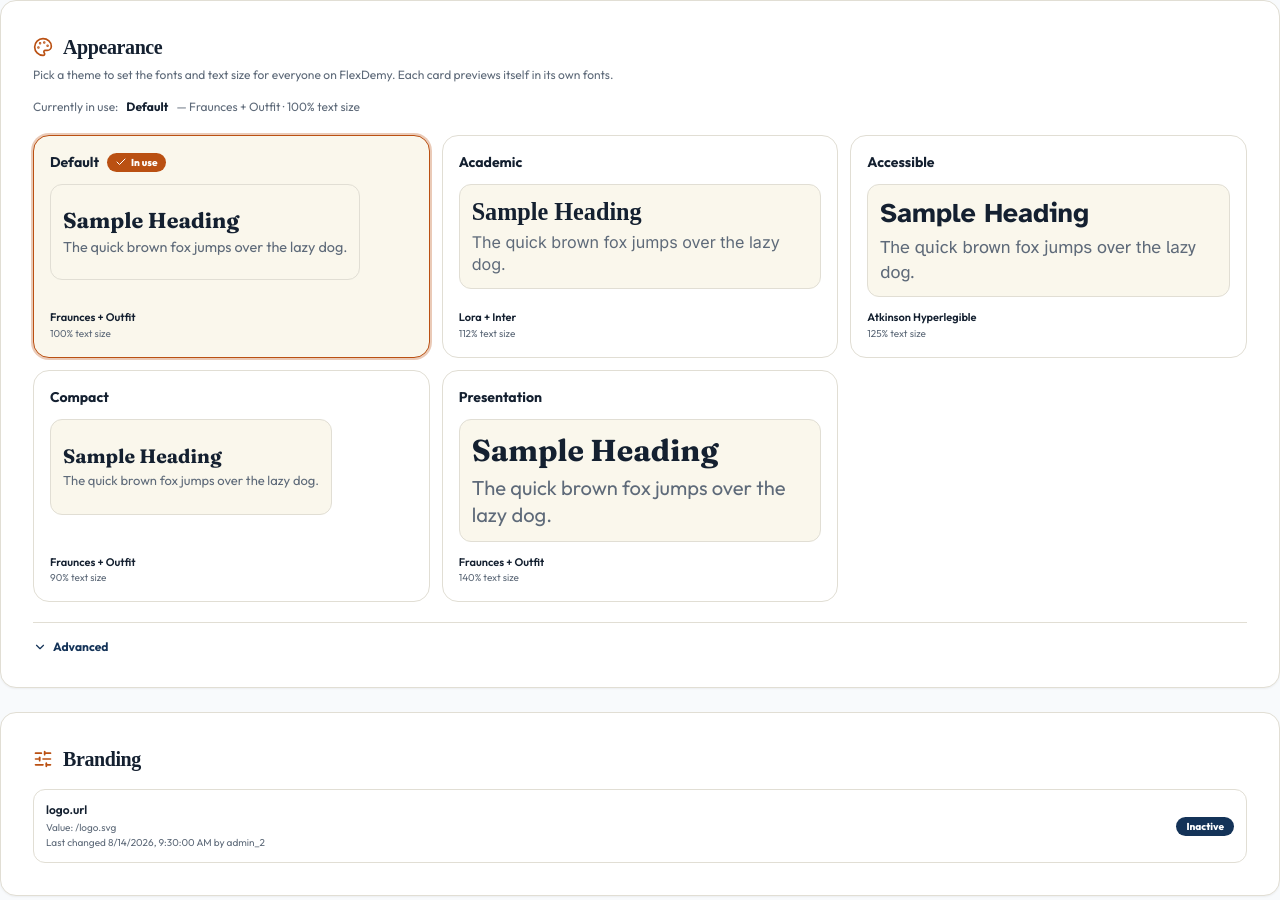
Test: Settings › previews the two selections together, reflecting both the chosen font and the chosen scale
This screenshot has width=1280, height=900.
Click the button "Advanced" at (71, 647), box [33, 639, 108, 655]
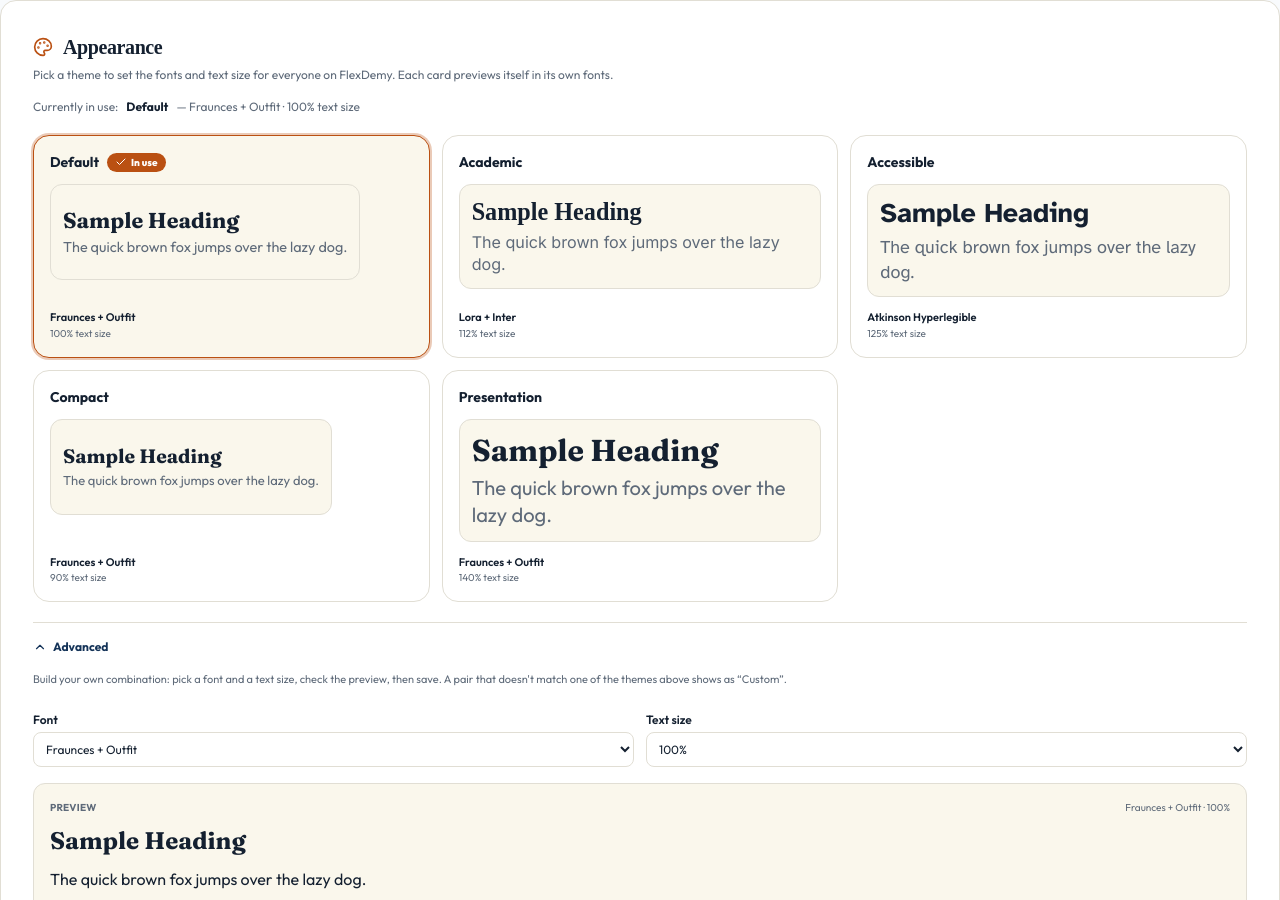
Select "Lora + Inter" in the dropdown labelled "Font" at (334, 749), box [33, 732, 634, 767]
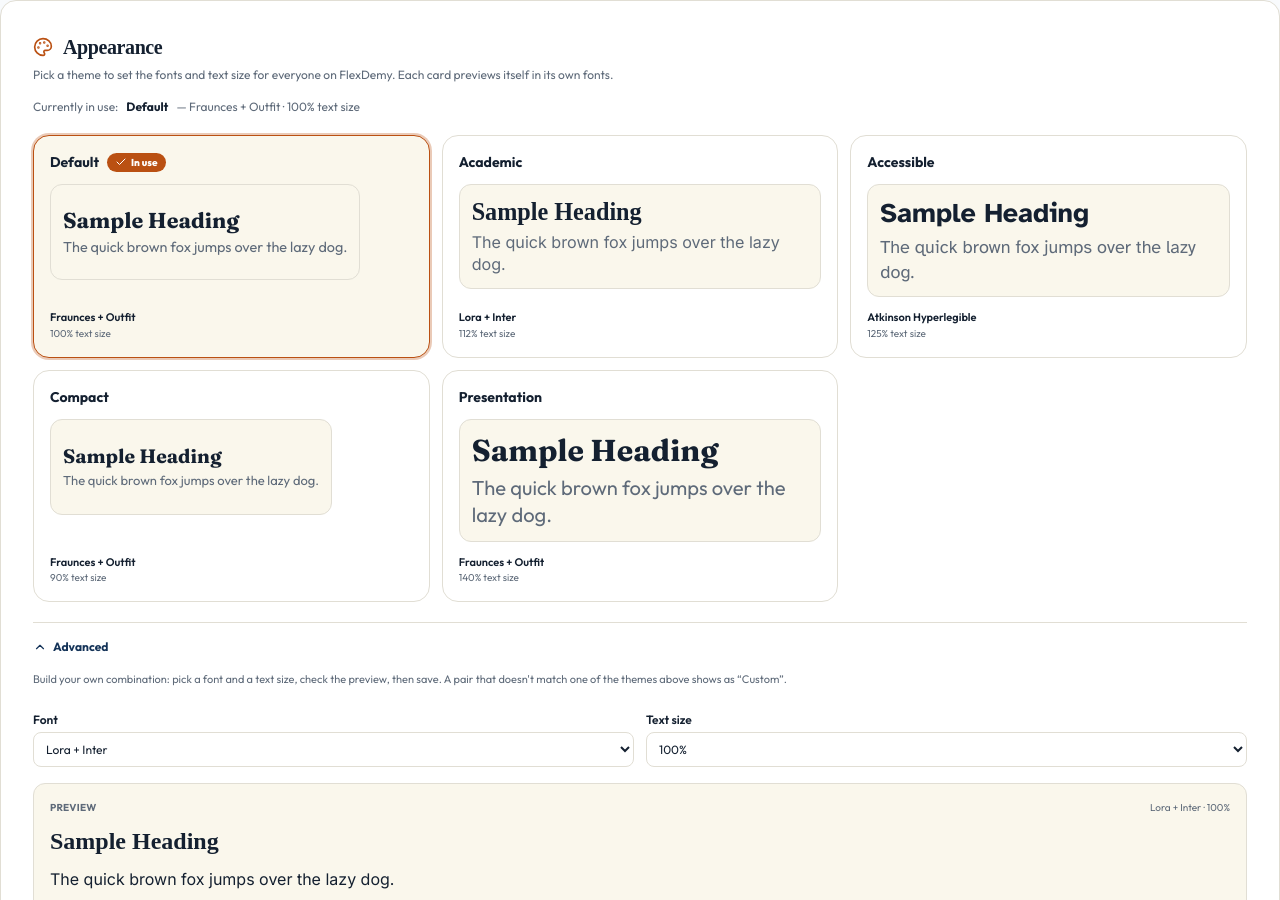
Select "112%" in the dropdown labelled "Text size" at (946, 749), box [646, 732, 1247, 767]
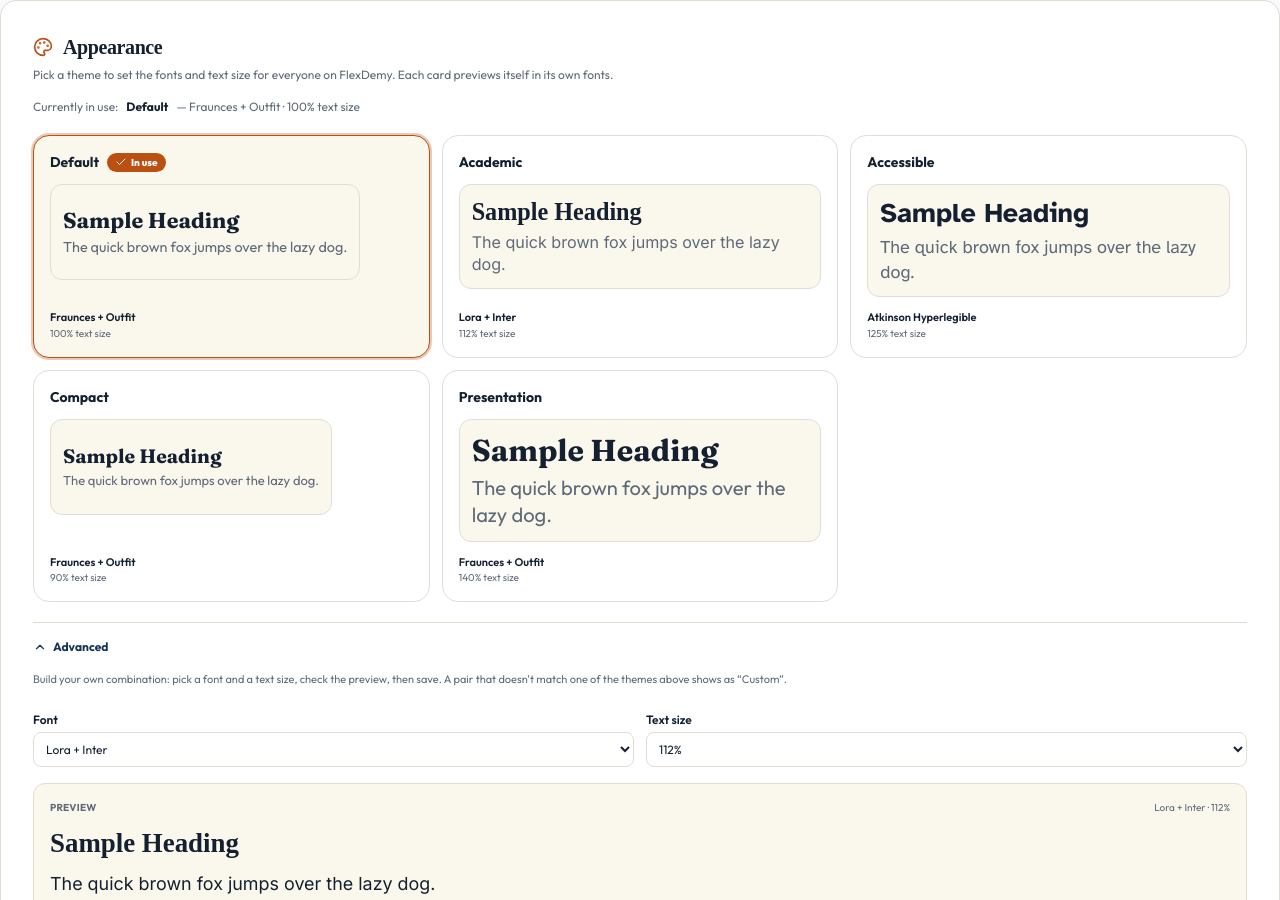
expect the text "Lora + Inter · 112%" is shown: met, box [1154, 800, 1230, 815]
